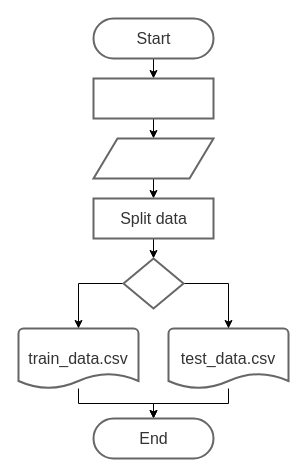
Image size: 306x476. Some labels were removed from this diagram. The shapes that lost their labels are listed below. From the top down, each one's centre as x and y in pixels, then its label:
At (x=153, y=98): "Pilih menu split".
At (x=153, y=158): "input data".
